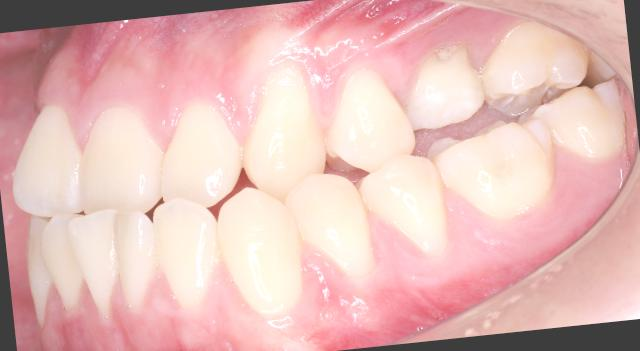canine class I: (198, 48, 382, 326)
molar class III 3/4: (427, 16, 639, 238)
